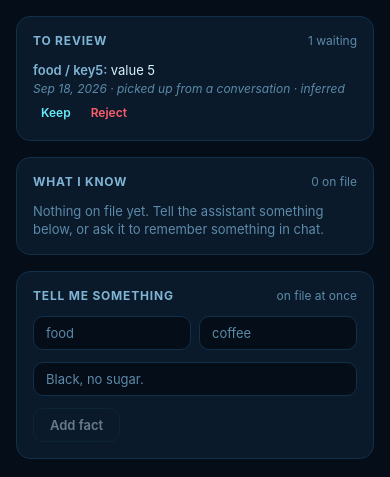
Test case: shows a 409 on the review card and redraws from the server
Step 1. Click the button with test id "facts-keep-5" → point(56, 112), box [33,101,79,124]
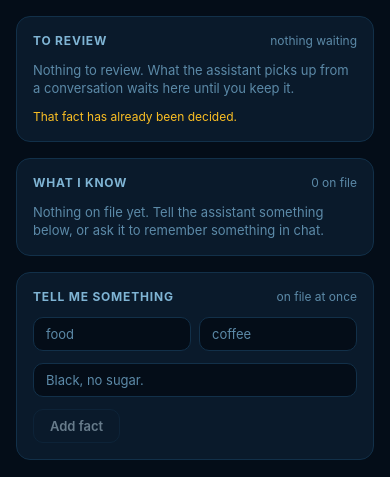
Expected: the text "That fact has already been decided." is shown, [33,109,237,124]
Expected: the element with test id "facts-proposed-5" is gone
